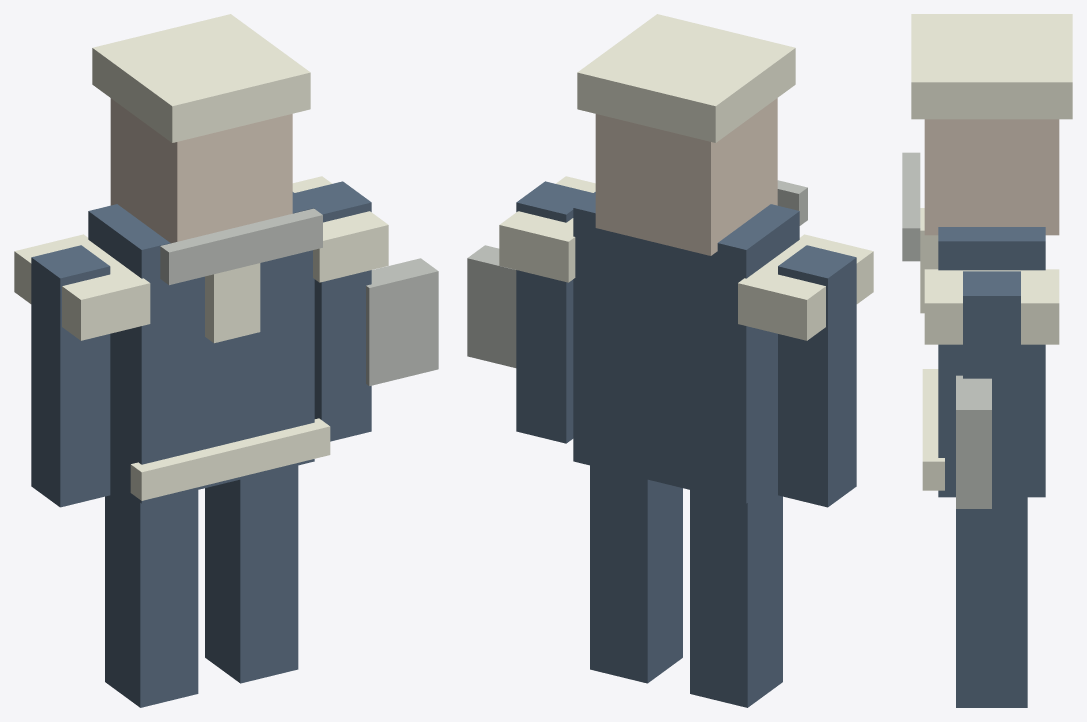
The model's file is 11_mirek_rootborne_engineer_of_laser.glb.
3 views of the same model, side by side, from view 1: azimuth 30°, elevation 25°; view 2: azimuth 150°, elevation 25°; view 3: azimuth 270°, elevation 25° (orthographic).
Visible parts, largest first — view 1: Mirek Rootborne, Engineer of Laser; view 2: Mirek Rootborne, Engineer of Laser; view 3: Mirek Rootborne, Engineer of Laser.
Boxes of the visible parts, left/top/right/bottom form: Mirek Rootborne, Engineer of Laser: left=14, top=14, right=438, bottom=707; Mirek Rootborne, Engineer of Laser: left=467, top=14, right=873, bottom=707; Mirek Rootborne, Engineer of Laser: left=902, top=14, right=1072, bottom=707.
Bounding box in the file's own units: 1.01 × 1.59 × 0.3943.
